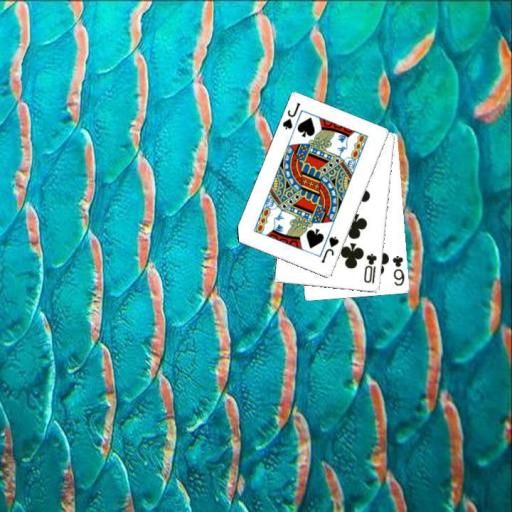10C: (362, 250, 379, 285)
6C: (390, 253, 406, 288)
JS: (318, 233, 341, 265), (280, 99, 303, 131)
